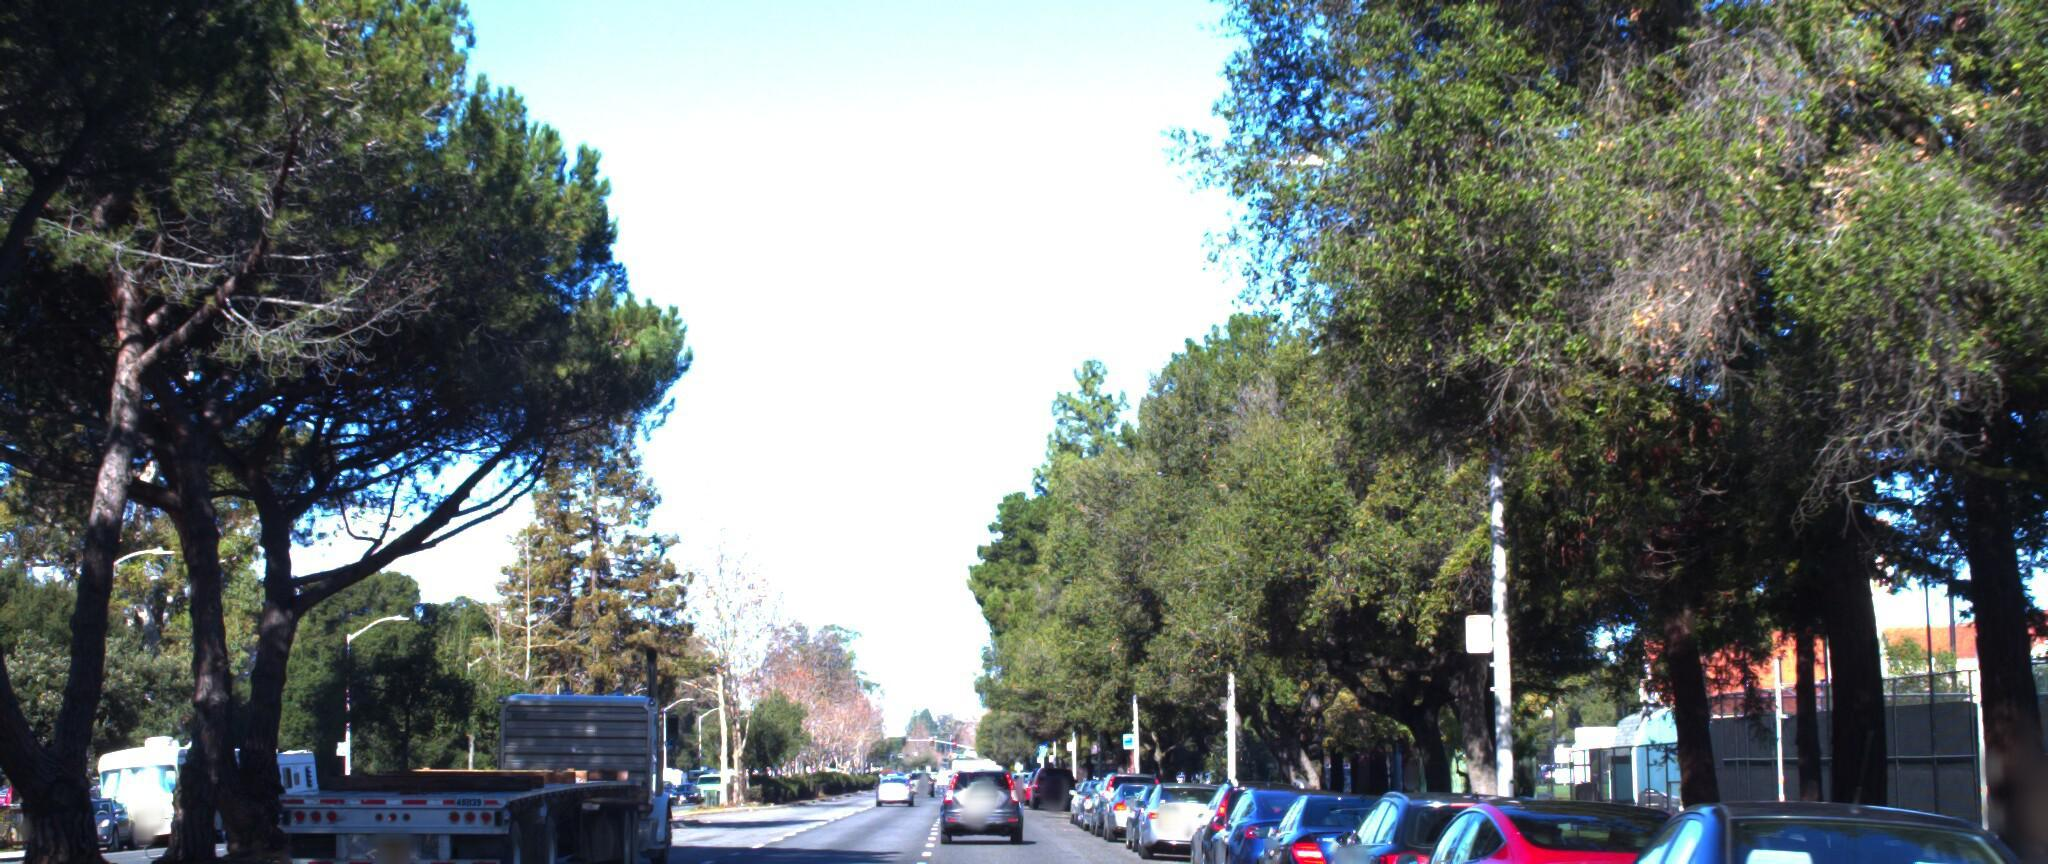car: (1522, 773, 2048, 864), (1366, 773, 1759, 864), (1301, 767, 1601, 864), (1684, 794, 2048, 864), (1242, 767, 1454, 864), (1198, 764, 1381, 864), (1178, 756, 1332, 864), (1127, 761, 1240, 846), (933, 741, 1027, 831)
truck: (276, 586, 718, 864)
